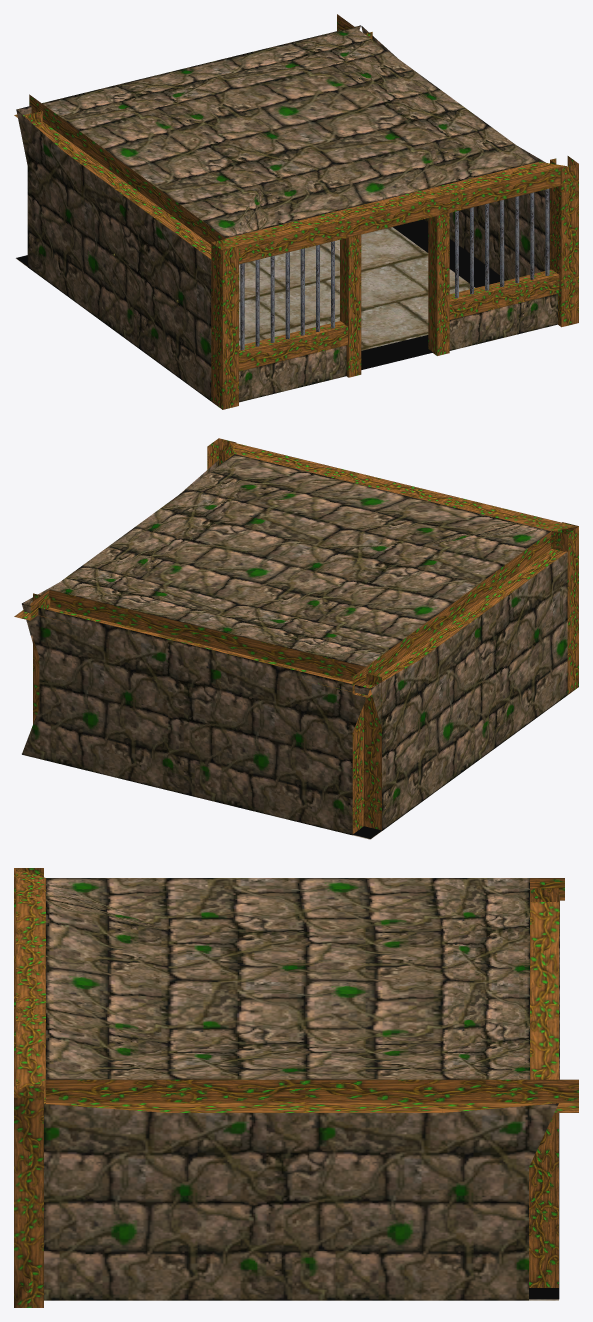
Rendered from INST_EKH_JAIL_CELL.fbx.
3 renders of one model, top to bottom at view 1: azimuth 30°, elevation 25°; view 2: azimuth 150°, elevation 25°; view 3: azimuth 270°, elevation 25°, orthographic. The views are drawn at different scales.
Parts seen in each view (by area): view 1: INST_EKH_JAIL_CELL; view 2: INST_EKH_JAIL_CELL; view 3: INST_EKH_JAIL_CELL.
Boxes of the visible parts, box(x1,y1,x2,y2) form: INST_EKH_JAIL_CELL: box(14, 14, 578, 409); INST_EKH_JAIL_CELL: box(14, 438, 578, 839); INST_EKH_JAIL_CELL: box(14, 868, 578, 1307).
Size of the model in its own units: 51904 by 22050 by 53725.
8 materials, 8 textured.
